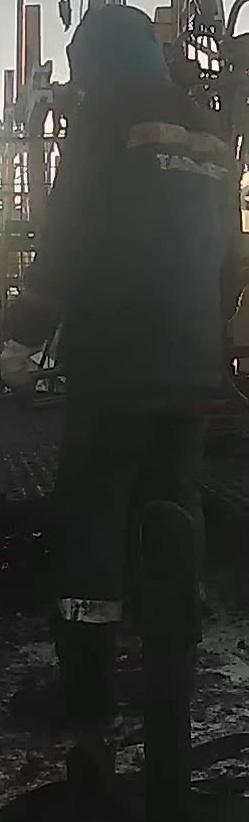gloves: (1, 334, 39, 399)
vest: (59, 110, 236, 424)
